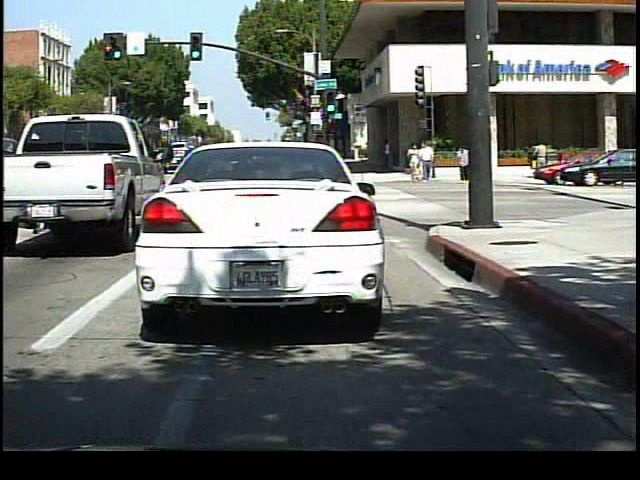person: (530, 137, 551, 178), (419, 137, 437, 184), (454, 138, 471, 183), (408, 141, 423, 184)
